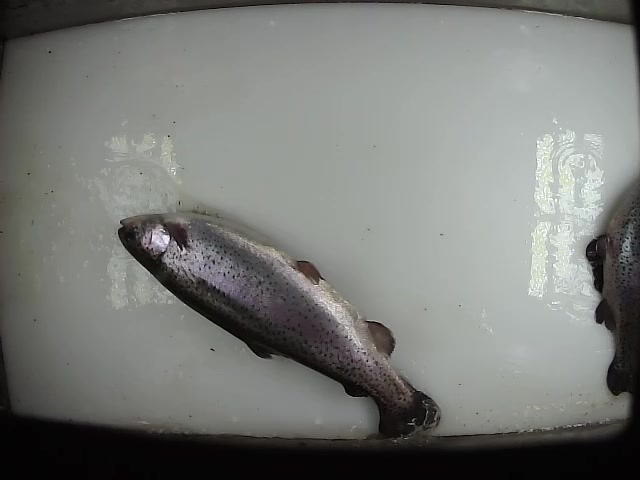fish: (116, 209, 444, 445), (585, 167, 640, 398)
